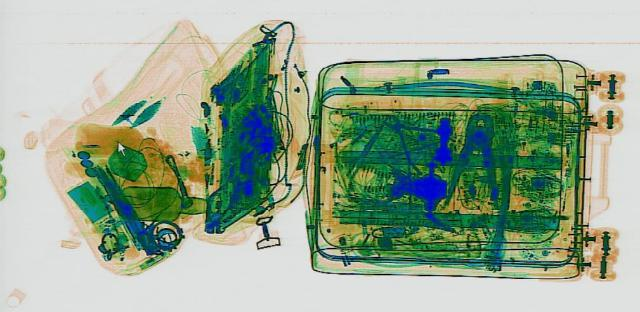Pliers: (351, 108, 479, 172), (442, 112, 506, 204)
